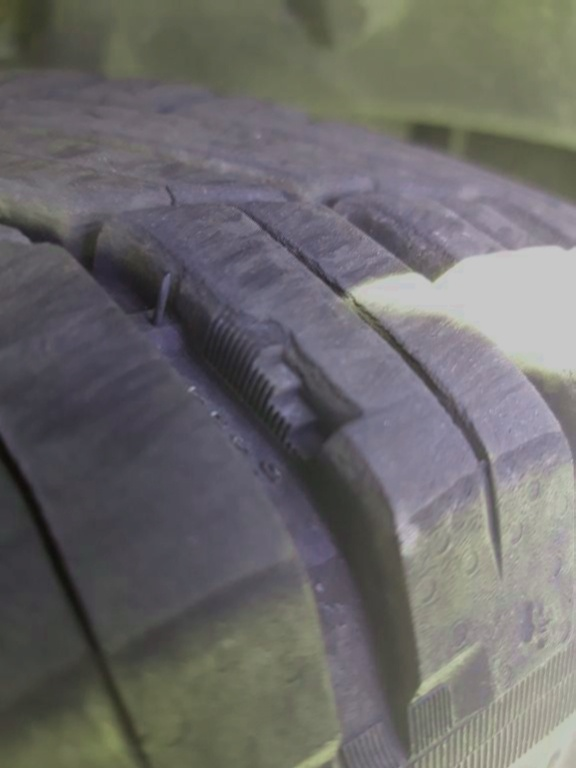temoin:80: (193, 296, 372, 478)
